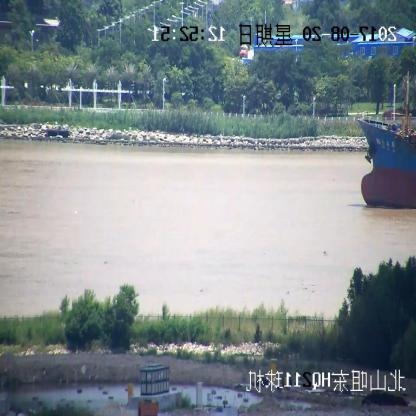Bulk Carrier: (356, 112, 416, 210)
